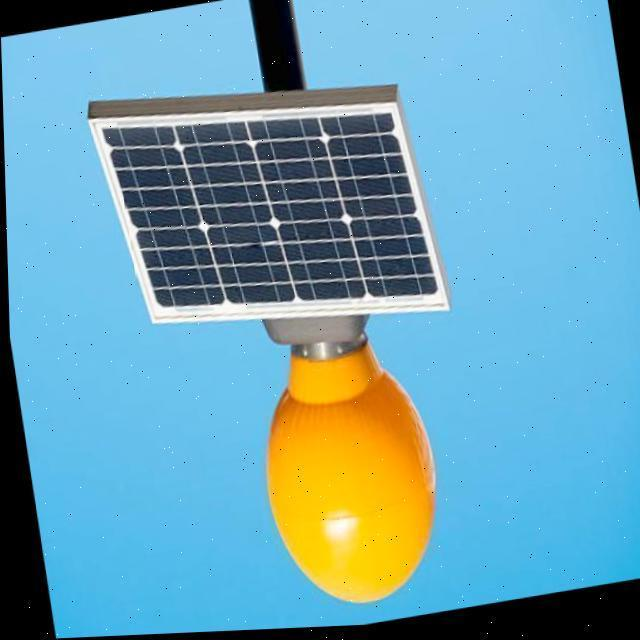Normal Solar Panel: (82, 66, 448, 363)
